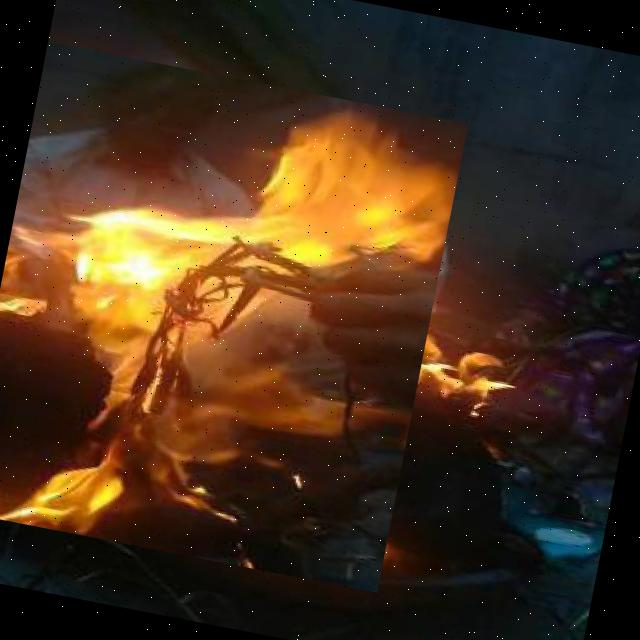fire: (0, 42, 468, 593)
